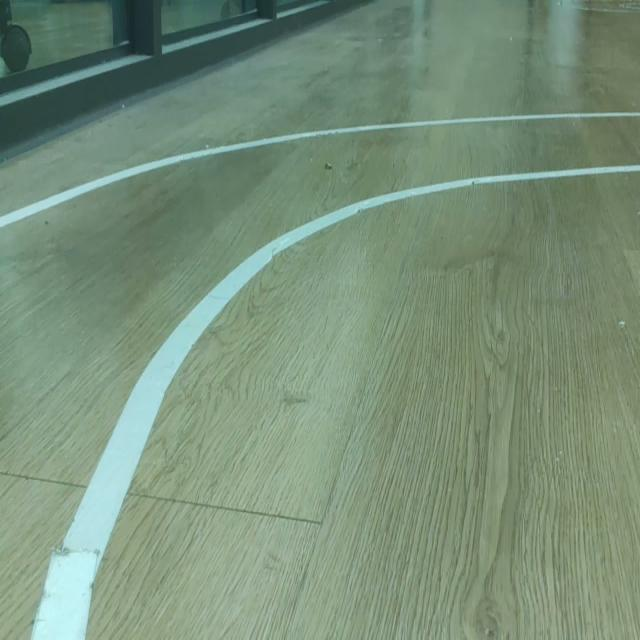road: (0, 116, 640, 639)
